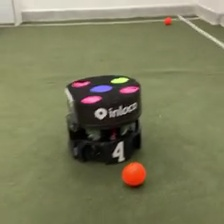ball: (120, 160, 147, 188), (164, 15, 172, 25)
robot: (62, 73, 143, 165)
